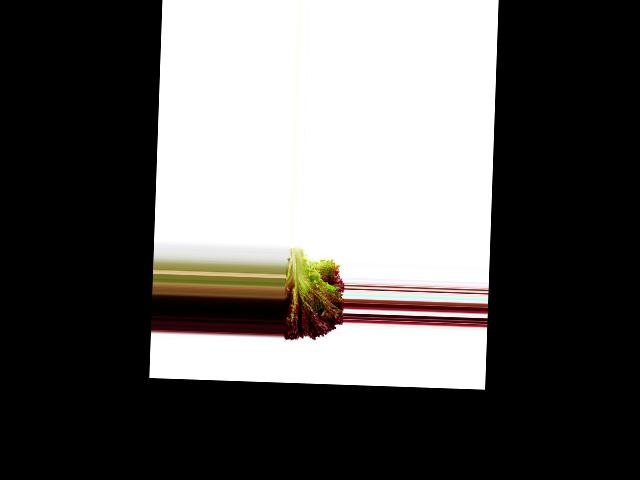lettuce: (282, 244, 344, 347)
